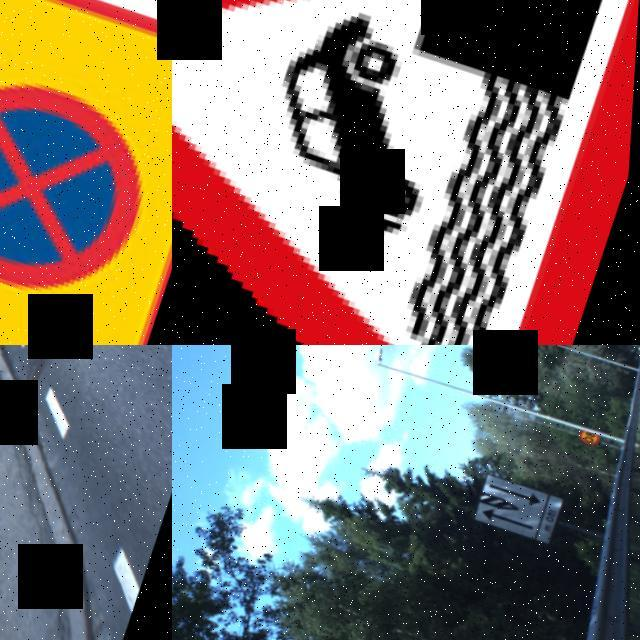177: (0, 0, 172, 345)
55: (578, 420, 605, 442)
66: (472, 466, 558, 536)
Unprotected quay: (172, 0, 640, 345)
